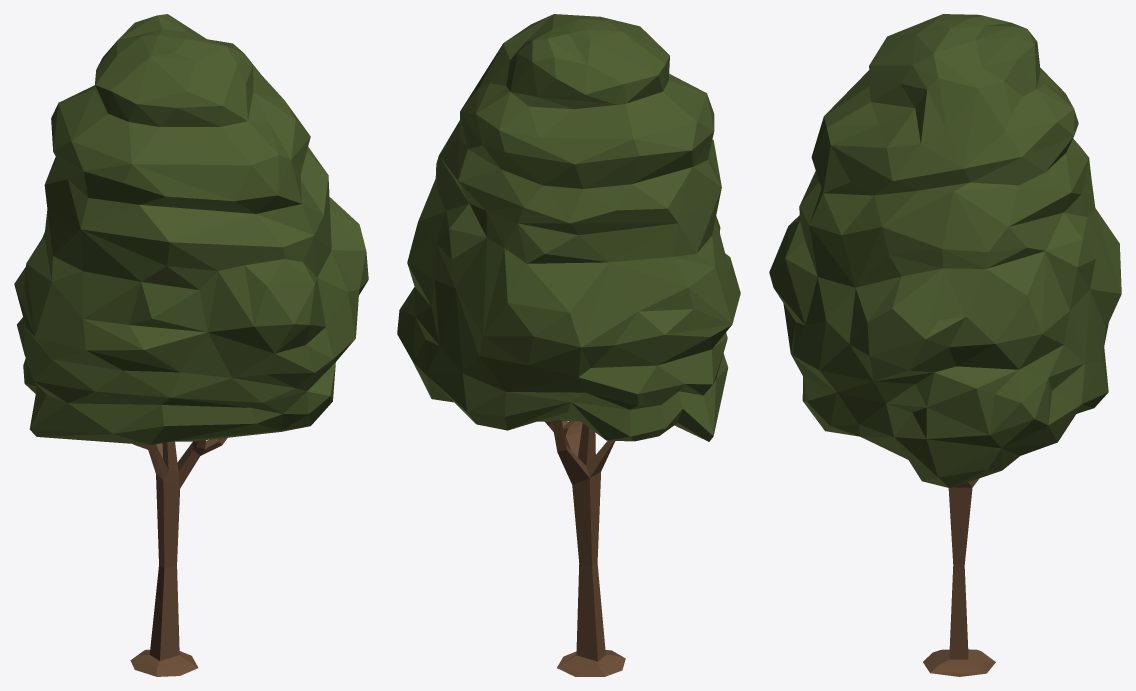
File: delh_foli_04_02.fbx
3 renders of one model, left to right at view 1: azimuth 30°, elevation 25°; view 2: azimuth 150°, elevation 25°; view 3: azimuth 270°, elevation 25°, orthographic. The views are drawn at different scales.
Visible parts, largest first — view 1: delh_foli_04_02; view 2: delh_foli_04_02; view 3: delh_foli_04_02.
Part boxes in pixels (x1,y1,x2,y2): delh_foli_04_02: [14, 14, 368, 676]; delh_foli_04_02: [397, 14, 740, 676]; delh_foli_04_02: [769, 14, 1121, 676].
Size of the model in its own units: 274 by 530 by 262.
